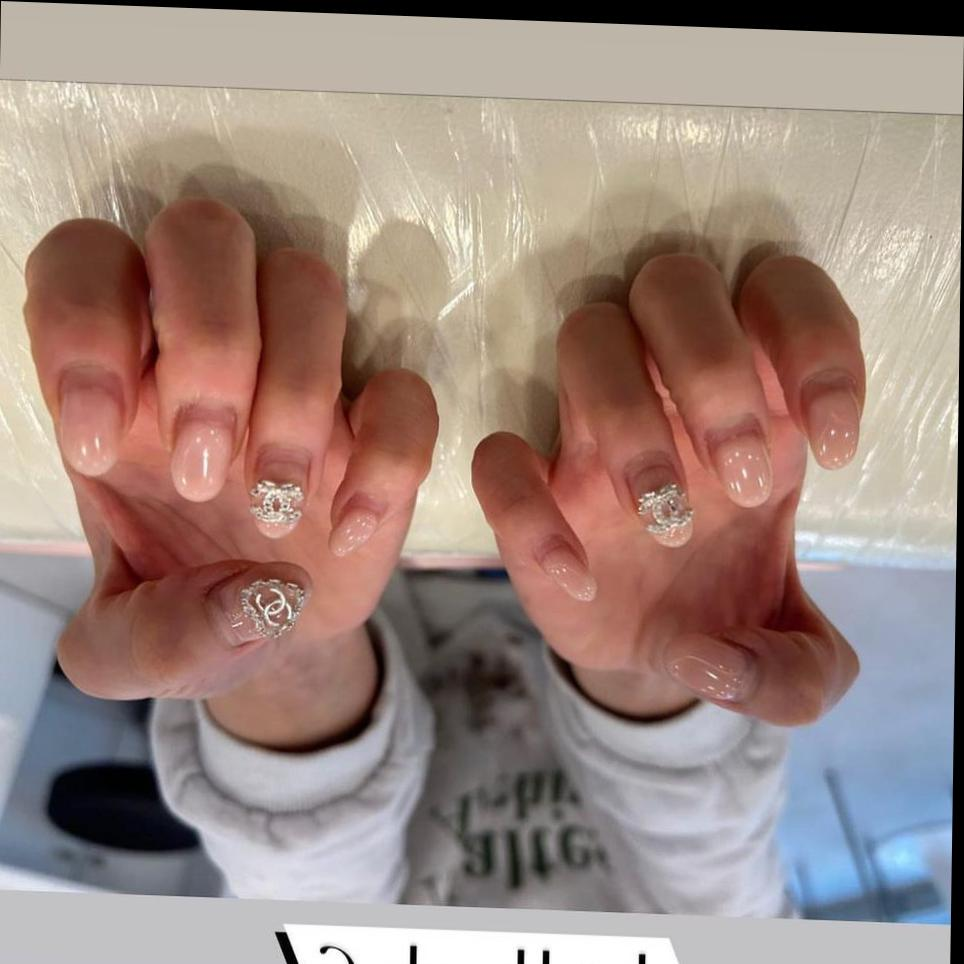nail: (207, 564, 309, 652), (53, 363, 125, 479), (660, 629, 760, 704), (167, 403, 235, 504), (796, 369, 861, 473), (625, 460, 693, 549), (245, 449, 309, 541), (707, 425, 773, 509), (533, 536, 597, 603), (327, 494, 382, 560)
